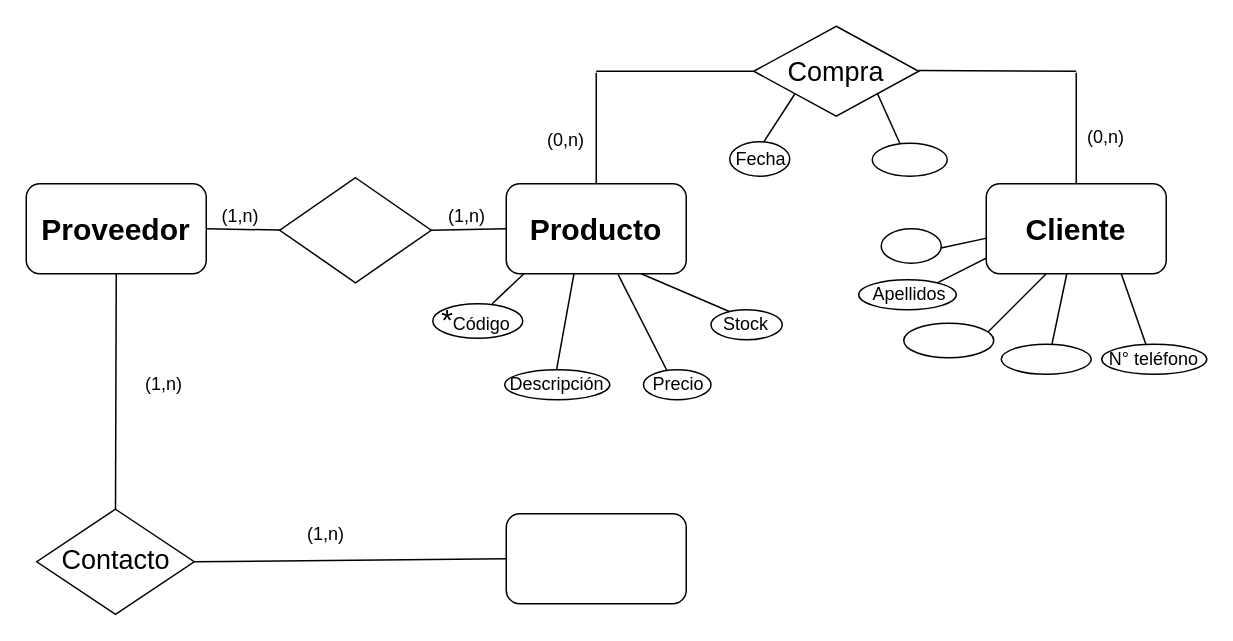
Image size: 1233x641. Some labels were removed from this diagram. The shapes that lost their labels are listed below. From the top down, each one's box as (x1, y1, x2, y2) in pixels, then its label:
(871, 142, 947, 176): Artículo
(278, 176, 431, 283): Suministro
(880, 227, 941, 263): *DNI
(902, 322, 994, 358): Nombres
(1000, 343, 1091, 374): Dirección
(505, 512, 686, 604): Tienda
